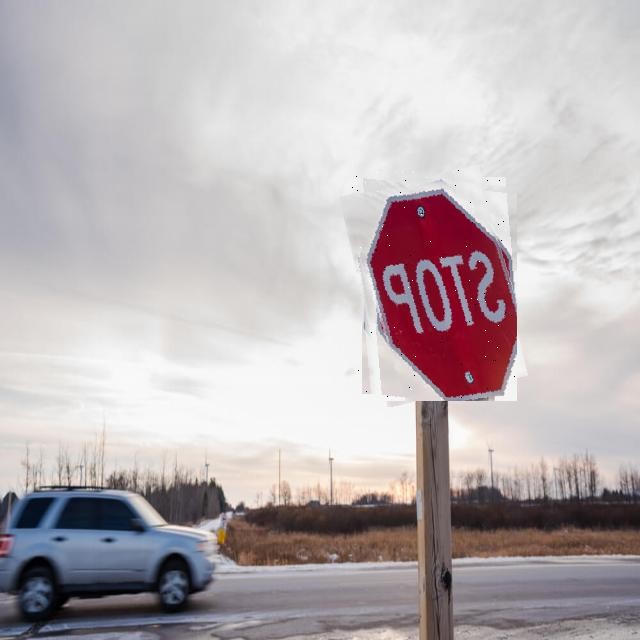stop: (351, 170, 517, 401)
